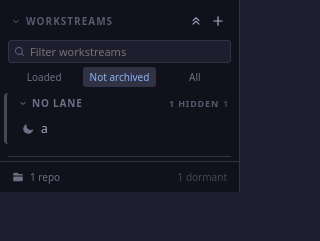
it: WorkstreamSidebar unified list › hides archived until the All filter, then shows them dimmed
The width and height of the screenshot is (320, 241).
Expected: the text "b" is not shown
What coordinates should you click on to do the following:
click the button with test id "ws-list-filter-all"
I would click on:
 (195, 77)
Its box is [159,67,231,87].
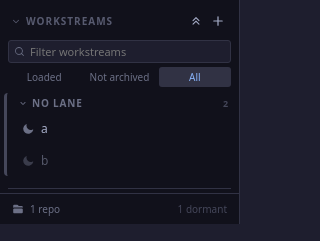
Result: the text "b" is shown at [41,152,48,169]
